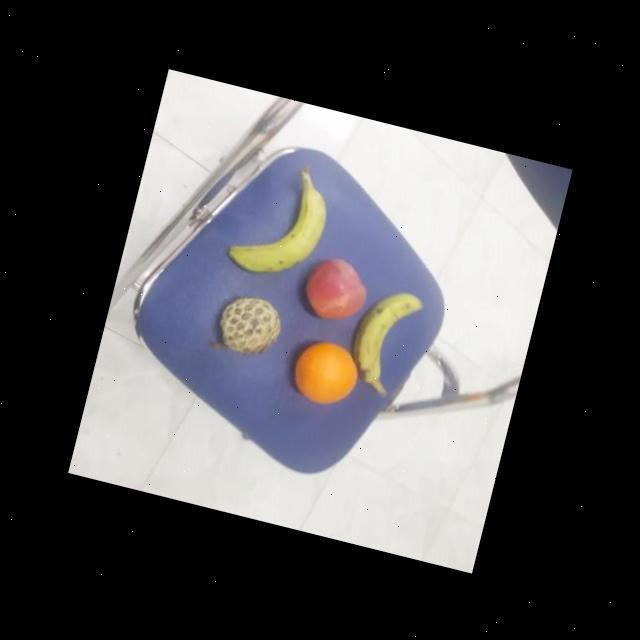Sakya fruit: (210, 286, 288, 364)
apple: (298, 248, 377, 329)
banana: (226, 167, 338, 286), (341, 283, 432, 399)
orange: (286, 335, 365, 412)
